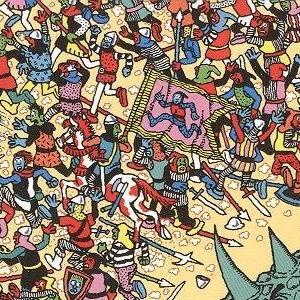Charlie: (133, 38, 167, 90)
